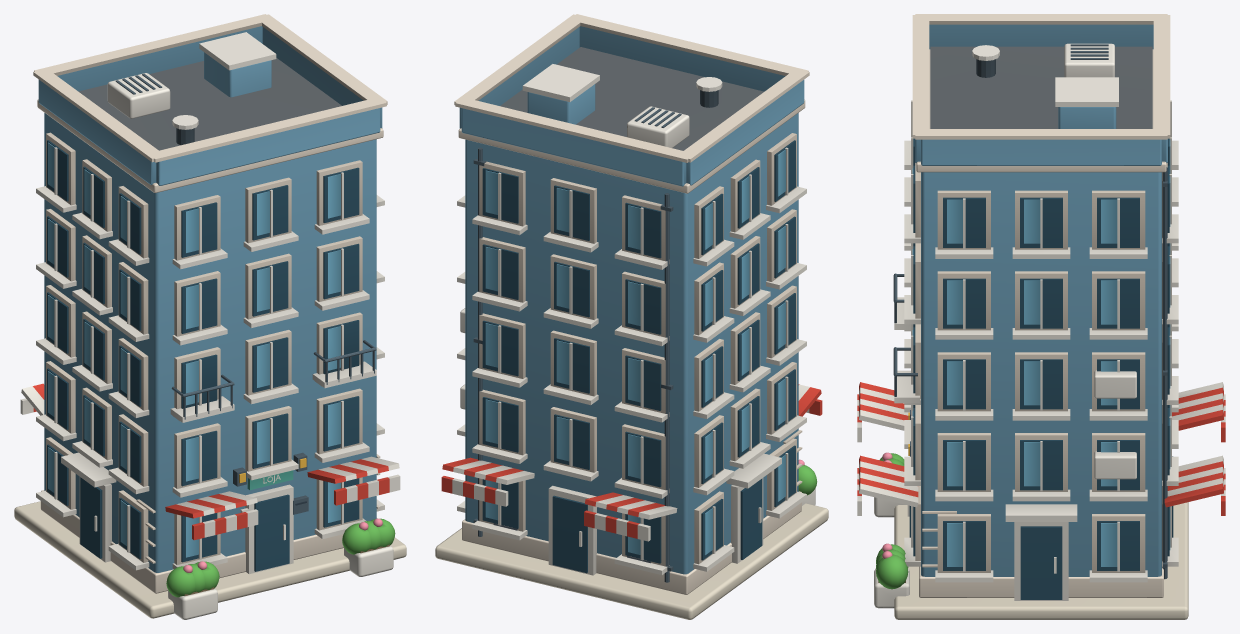
The model's file is townhouse-sage.glb.
3 views of the same model, side by side, from view 1: azimuth 30°, elevation 25°; view 2: azimuth 150°, elevation 25°; view 3: azimuth 270°, elevation 25° (orthographic). The views are drawn at different scales.
Visible parts, largest first — view 1: stucco, foundation, mullion, blue glazing, sky reflection, recessed roof, paving, striped canopy, plant, vent grille; view 2: stucco, foundation, mullion, blue glazing, sky reflection, paving, recessed roof, vent grille, striped canopy; view 3: stucco, foundation, mullion, blue glazing, recessed roof, sky reflection, paving, striped canopy, vent grille, plant.
Part boxes in pixels (left/top/right/bottom): stucco: left=38, top=26, right=382, bottom=572; foundation: left=33, top=14, right=387, bottom=593; mullion: left=20, top=32, right=400, bottom=619; blue glazing: left=47, top=140, right=359, bottom=571; sky reflection: left=48, top=142, right=340, bottom=557; recessed roof: left=78, top=58, right=341, bottom=150; paving: left=14, top=501, right=406, bottom=618; striped canopy: left=33, top=383, right=389, bottom=540; plant: left=166, top=518, right=395, bottom=597; vent grille: left=115, top=73, right=376, bottom=514; stucco: left=459, top=26, right=804, bottom=574; foundation: left=454, top=14, right=809, bottom=594; mullion: left=452, top=64, right=815, bottom=575; blue glazing: left=482, top=140, right=795, bottom=573; sky reflection: left=485, top=149, right=785, bottom=554; paving: left=435, top=503, right=828, bottom=619; recessed roof: left=500, top=47, right=763, bottom=150; vent grille: left=473, top=90, right=718, bottom=582; striped canopy: left=441, top=384, right=822, bottom=538; stucco: left=915, top=24, right=1167, bottom=576; foundation: left=912, top=14, right=1170, bottom=597; mullion: left=857, top=43, right=1225, bottom=608; blue glazing: left=909, top=138, right=1173, bottom=599; recessed roof: left=930, top=46, right=1152, bottom=128; sky reflection: left=912, top=139, right=1170, bottom=566; paving: left=894, top=502, right=1188, bottom=619; striped canopy: left=857, top=382, right=1225, bottom=515; vent grille: left=893, top=44, right=1167, bottom=579; plant: left=876, top=453, right=908, bottom=589.
Size of the model in its own units: 2.81 by 4.67 by 3.18.
